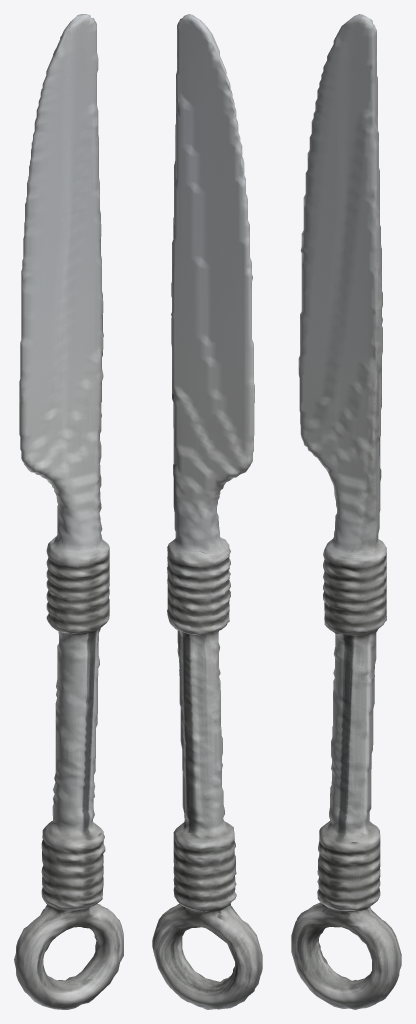
Rendered from como_dinner_knife_0308230248_texture.glb.
The picture shows the model from 3 angles, left to right: view 1: azimuth 30°, elevation 25°; view 2: azimuth 150°, elevation 25°; view 3: azimuth 330°, elevation 25°; orthographic projection.
Visible parts, largest first — view 1: Mesh_0.001; view 2: Mesh_0.001; view 3: Mesh_0.001.
Part boxes in pixels (x1,y1,x2,y2): Mesh_0.001: [14, 14, 123, 1009]; Mesh_0.001: [152, 14, 262, 1009]; Mesh_0.001: [291, 14, 401, 1009].
Bounding box in the file's own units: 0.0225 × 0.2032 × 0.0121.
Materials: 1 (1 with a texture image).
